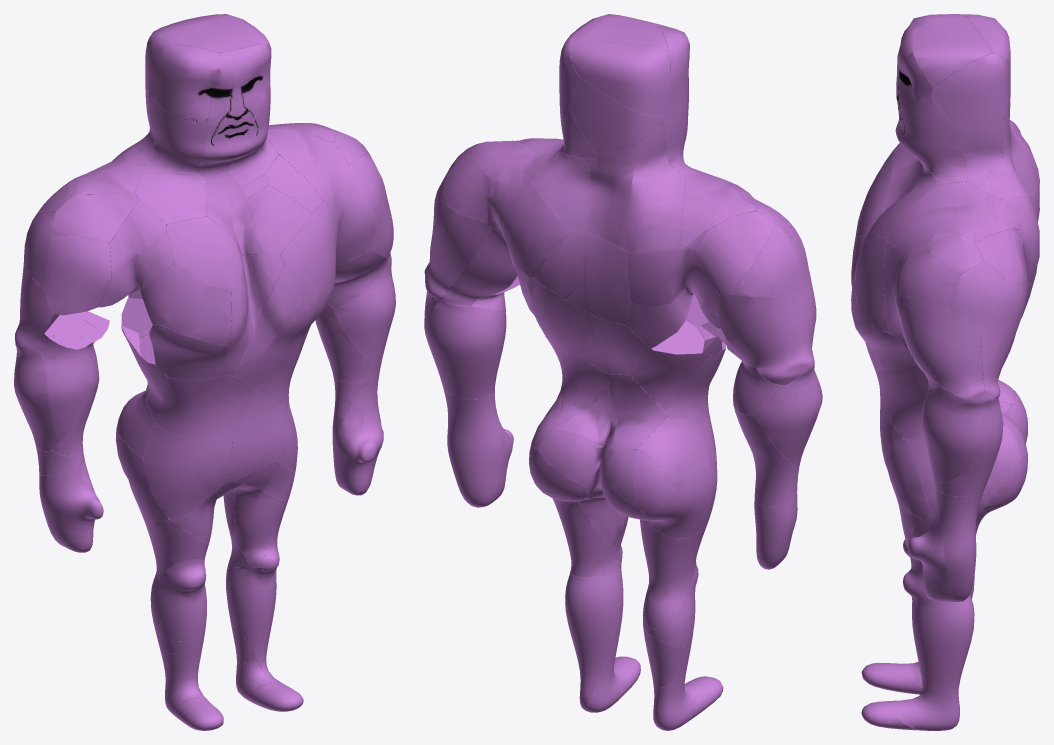
File: Fractured model.fbx
3 renders of one model, left to right at view 1: azimuth 30°, elevation 25°; view 2: azimuth 150°, elevation 25°; view 3: azimuth 270°, elevation 25°, orthographic. The views are drawn at different scales.
Parts seen in each view (by area): view 1: Cube.001_cell.002, Cube.001_cell.060, Cube.001_cell.069, Cube.001_cell.001, Cube.001_cell.062, Cube.001_cell.044, Cube.001_cell.055, Cube.001_cell.103, Cube.001_cell.073, Cube.001_cell.009, Cube.001_cell.082, Cube.001_cell.010 (+56 smaller); view 2: Cube.001_cell.016, Cube.001_cell.104, Cube.001_cell.048, Cube.001_cell.098, Cube.001_cell.088, Cube.001_cell.064, Cube.001_cell.086, Cube.001_cell.010, Cube.001_cell.102, Cube.001_cell.029, Cube.001_cell.036, Cube.001_cell.090 (+41 smaller); view 3: Cube.001_cell.010, Cube.001_cell.079, Cube.001_cell.026, Cube.001_cell.072, Cube.001_cell.068, Cube.001_cell.024, Cube.001_cell.064, Cube.001_cell.092, Cube.001_cell.066, Cube.001_cell.008, Cube.001_cell.096, Cube.001_cell.012 (+32 smaller).
Boxes of the visible parts, x1=… form: Cube.001_cell.002: x1=143, y1=425, x2=232, y2=520; Cube.001_cell.060: x1=154, y1=374, x2=254, y2=438; Cube.001_cell.069: x1=45, y1=233, x2=111, y2=315; Cube.001_cell.001: x1=149, y1=44, x2=220, y2=122; Cube.001_cell.062: x1=207, y1=43, x2=271, y2=126; Cube.001_cell.044: x1=190, y1=481, x2=287, y2=567; Cube.001_cell.055: x1=166, y1=217, x2=244, y2=288; Cube.001_cell.103: x1=150, y1=558, x2=206, y2=641; Cube.001_cell.073: x1=39, y1=475, x2=103, y2=552; Cube.001_cell.009: x1=337, y1=382, x2=383, y2=495; Cube.001_cell.082: x1=227, y1=389, x2=288, y2=482; Cube.001_cell.010: x1=226, y1=554, x2=283, y2=684; Cube.001_cell.016: x1=718, y1=289, x2=816, y2=385; Cube.001_cell.104: x1=424, y1=302, x2=506, y2=399; Cube.001_cell.048: x1=533, y1=229, x2=630, y2=325; Cube.001_cell.098: x1=624, y1=121, x2=685, y2=252; Cube.001_cell.088: x1=569, y1=42, x2=670, y2=116; Cube.001_cell.064: x1=443, y1=387, x2=503, y2=507; Cube.001_cell.086: x1=487, y1=164, x2=570, y2=278; Cube.001_cell.010: x1=565, y1=565, x2=623, y2=709; Cube.001_cell.102: x1=640, y1=520, x2=707, y2=629; Cube.001_cell.029: x1=685, y1=210, x2=775, y2=295; Cube.001_cell.036: x1=627, y1=245, x2=719, y2=315; Cube.001_cell.090: x1=568, y1=77, x2=664, y2=155; Cube.001_cell.010: x1=899, y1=593, x2=974, y2=730; Cube.001_cell.079: x1=899, y1=295, x2=984, y2=398; Cube.001_cell.026: x1=922, y1=387, x2=997, y2=482; Cube.001_cell.072: x1=931, y1=53, x2=1009, y2=127; Cube.001_cell.068: x1=898, y1=95, x2=967, y2=186; Cube.001_cell.024: x1=913, y1=14, x2=992, y2=86; Cube.001_cell.064: x1=935, y1=489, x2=983, y2=602; Cube.001_cell.092: x1=887, y1=181, x2=983, y2=266; Cube.001_cell.066: x1=950, y1=261, x2=1012, y2=334; Cube.001_cell.008: x1=980, y1=275, x2=1027, y2=399; Cube.001_cell.096: x1=876, y1=364, x2=928, y2=440; Cube.001_cell.012: x1=900, y1=246, x2=959, y2=309.
Bounding box in the file's own units: 563 × 958 × 241.
1 material, 1 textured.
